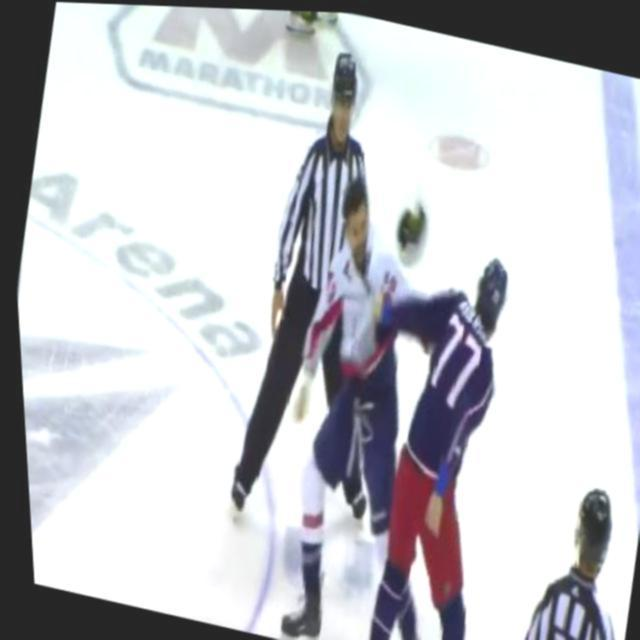fight: (230, 157, 558, 640)
